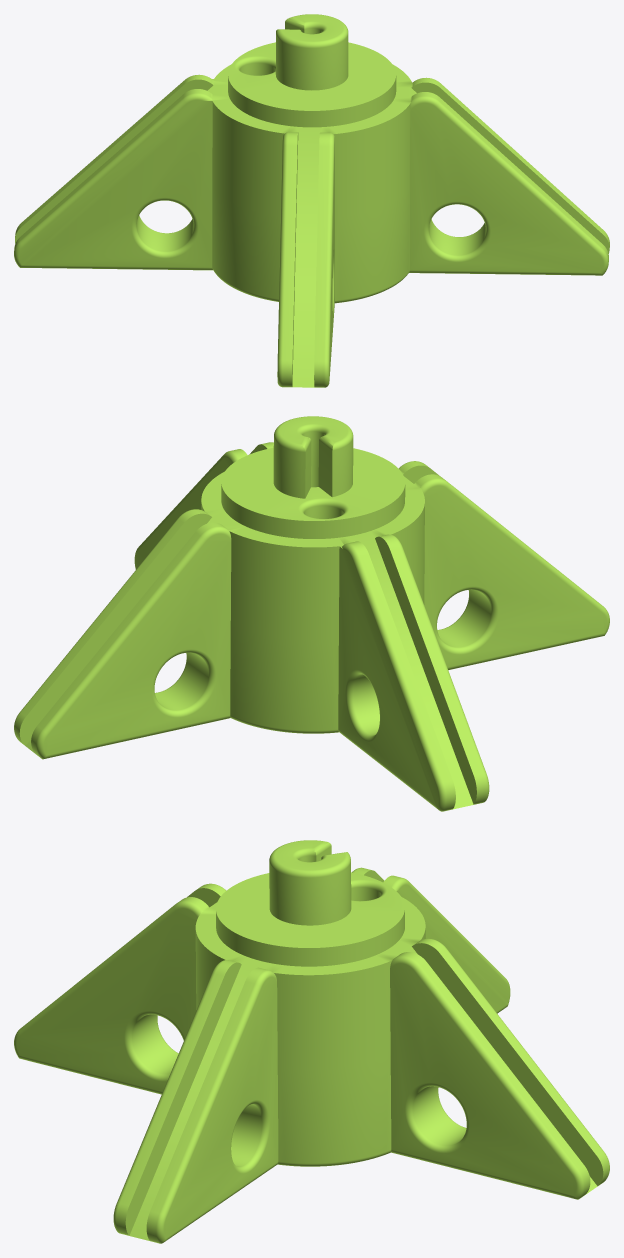
The picture shows the model from 3 angles, top to bottom: view 1: azimuth 30°, elevation 25°; view 2: azimuth 150°, elevation 25°; view 3: azimuth 270°, elevation 25°; orthographic projection. The views are drawn at different scales.
Visible parts, largest first — view 1: split_parent_0; view 2: split_parent_0; view 3: split_parent_0.
Boxes of the visible parts, bbox=[...] form: split_parent_0: bbox=[14, 14, 609, 387]; split_parent_0: bbox=[14, 416, 609, 811]; split_parent_0: bbox=[14, 840, 609, 1243].
Size of the model in its own units: 1 by 0.4944 by 1.
